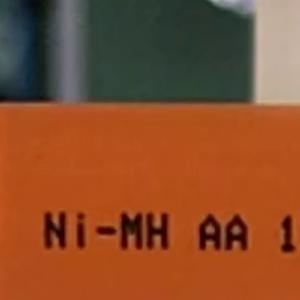keyword: (34, 203, 178, 258)
